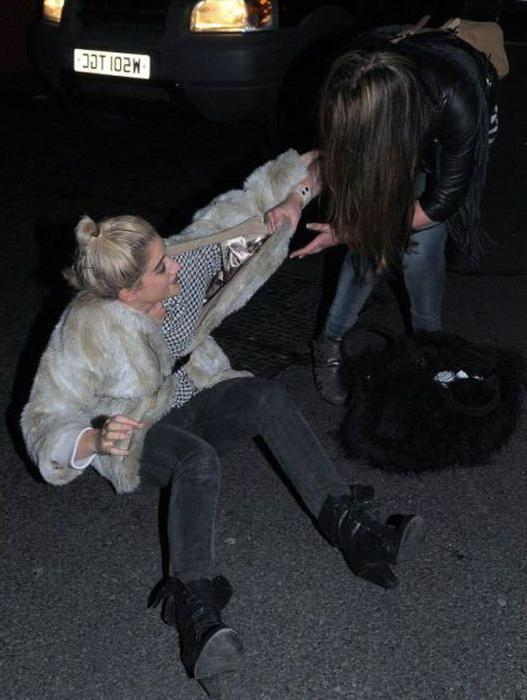Drunk: (145, 239, 189, 297)
